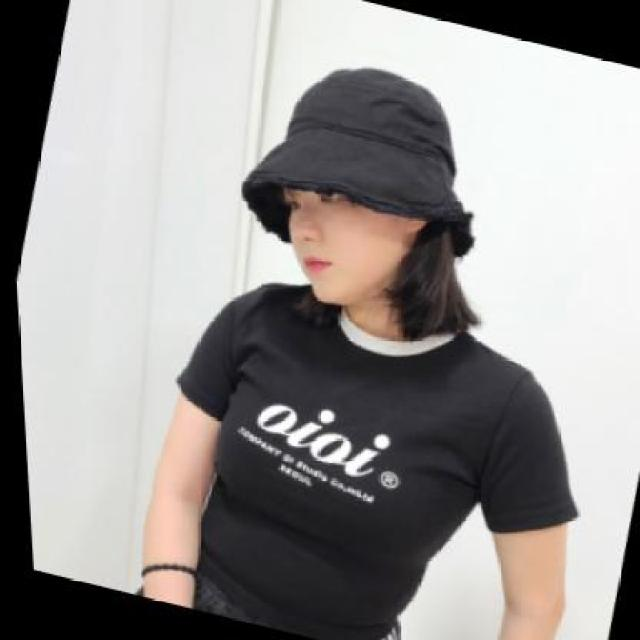hat: (232, 39, 490, 236)
